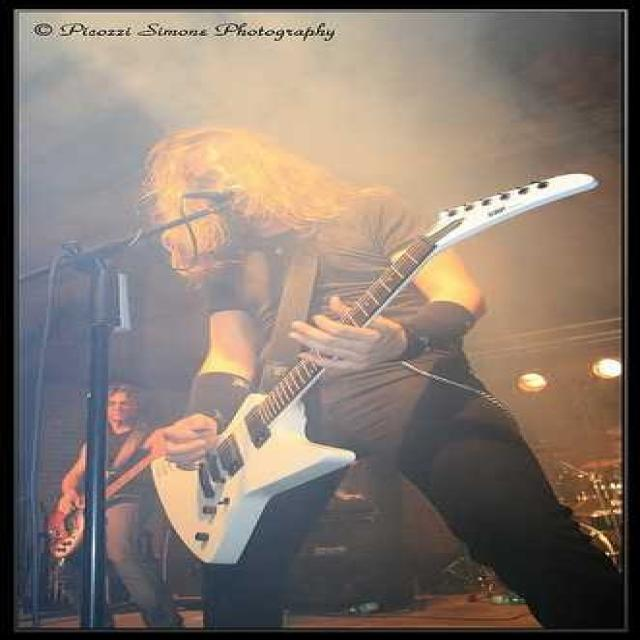microphone: (182, 186, 240, 202)
